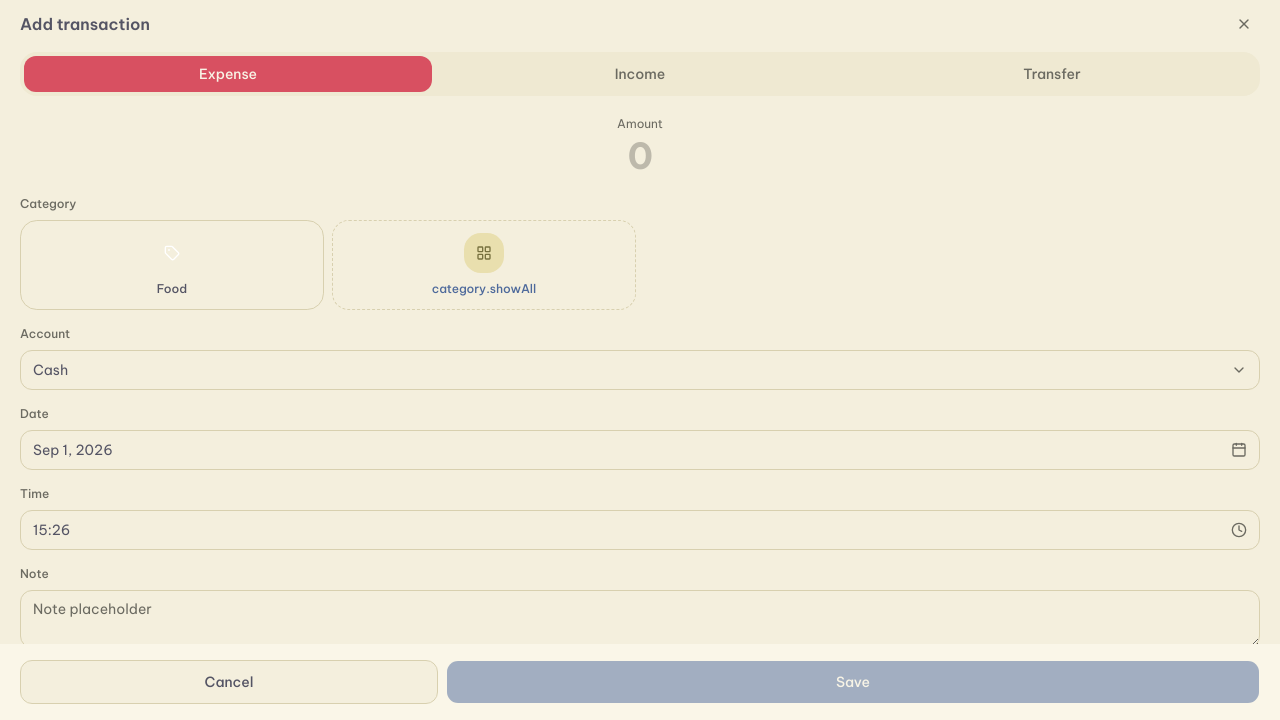
Test case: TransactionForm › autofocuses the amount input on desktop and formats digits inline while typing
Type "1000000" into the field with placeholder "0".
click(640, 156); type("1000000")  # box [20,136,1260,176]
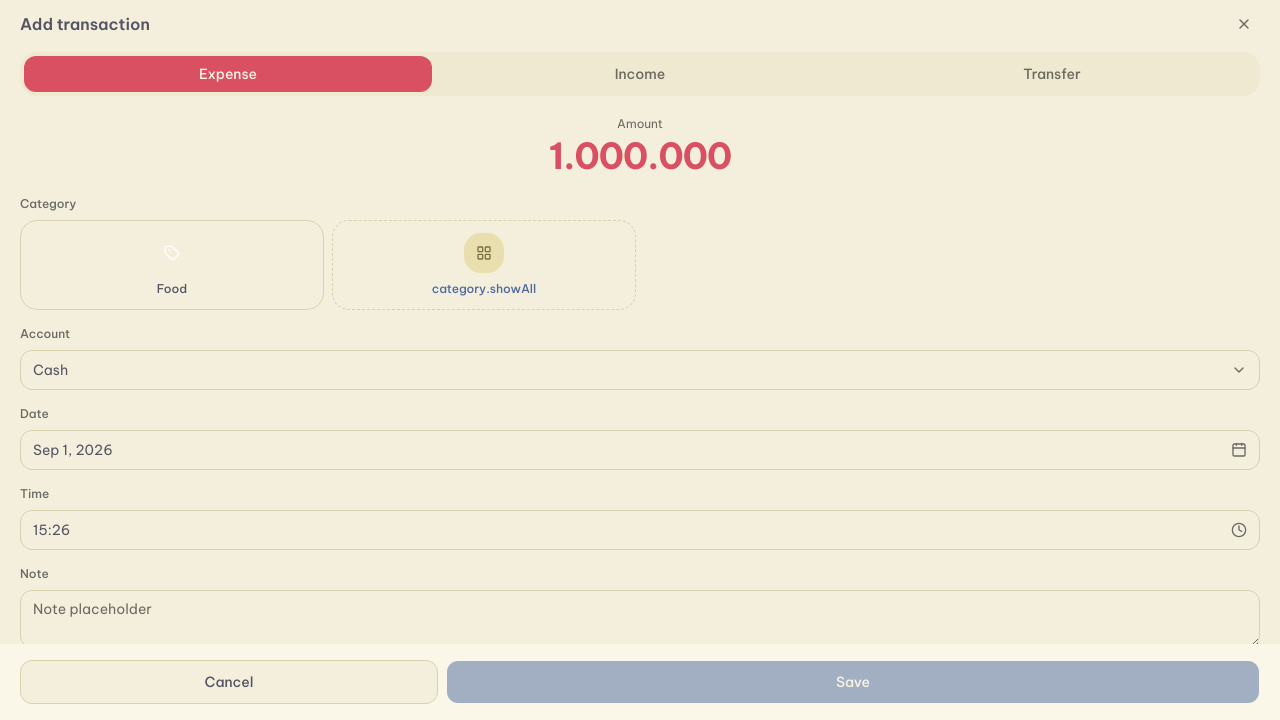
Check: the field with placeholder "0" holds "1.000.000", box [20,136,1260,176]
